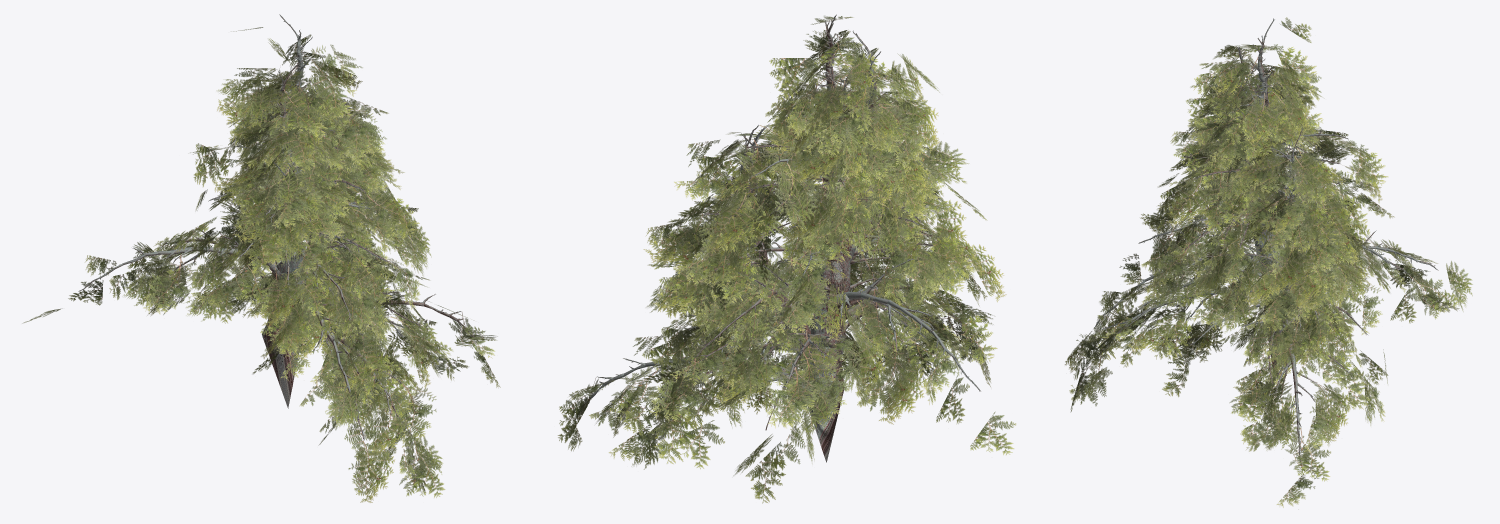
The model's file is conifer_hi.glb.
3 views of the same model, side by side, from view 1: azimuth 30°, elevation 25°; view 2: azimuth 150°, elevation 25°; view 3: azimuth 270°, elevation 25° (orthographic). The views are drawn at different scales.
Parts seen in each view (by area): view 1: Object_3, Object_6, Object_9, Object_4, Object_7, Object_5, Object_8, Object_2; view 2: Object_3, Object_6, Object_7, Object_4, Object_9, Object_8, Object_2, Object_5; view 3: Object_6, Object_3, Object_7, Object_4, Object_9, Object_5, Object_8, Object_2.
Part boxes in pixels (x1,y1,x2,y2): Object_3: [122, 79, 442, 484]; Object_6: [85, 45, 500, 467]; Object_9: [125, 38, 439, 444]; Object_4: [22, 27, 497, 497]; Object_7: [144, 60, 432, 502]; Object_5: [109, 52, 494, 480]; Object_8: [139, 44, 468, 492]; Object_2: [78, 14, 478, 440]; Object_3: [595, 53, 993, 475]; Object_6: [564, 30, 987, 460]; Object_7: [613, 30, 1006, 437]; Object_4: [558, 35, 1015, 469]; Object_9: [649, 49, 997, 503]; Object_8: [589, 15, 979, 470]; Object_2: [574, 14, 980, 462]; Object_5: [609, 30, 982, 440]; Object_6: [1076, 54, 1459, 507]; Object_3: [1072, 44, 1472, 450]; Object_7: [1065, 45, 1382, 449]; Object_4: [1070, 17, 1458, 481]; Object_9: [1093, 44, 1463, 421]; Object_5: [1073, 57, 1387, 451]; Object_8: [1069, 59, 1430, 448]; Object_2: [1094, 18, 1438, 466].
Size of the model in its own units: 9.12 by 8.22 by 8.15.
8 materials, 8 textured.
